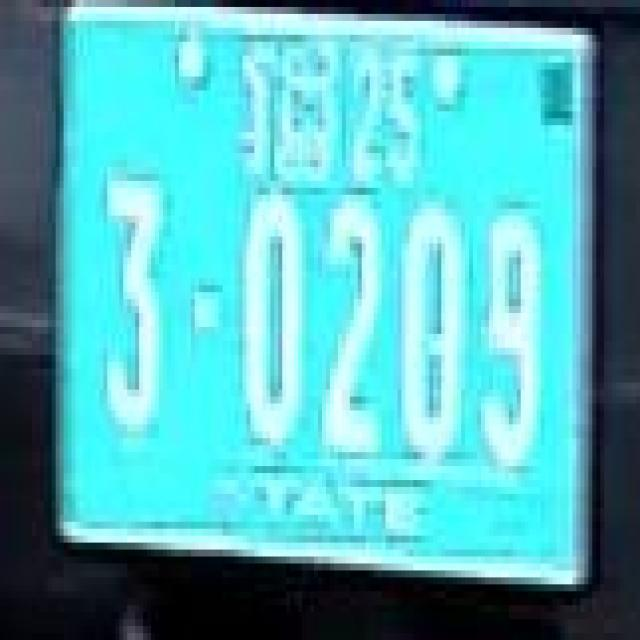State: (242, 35, 340, 188)
